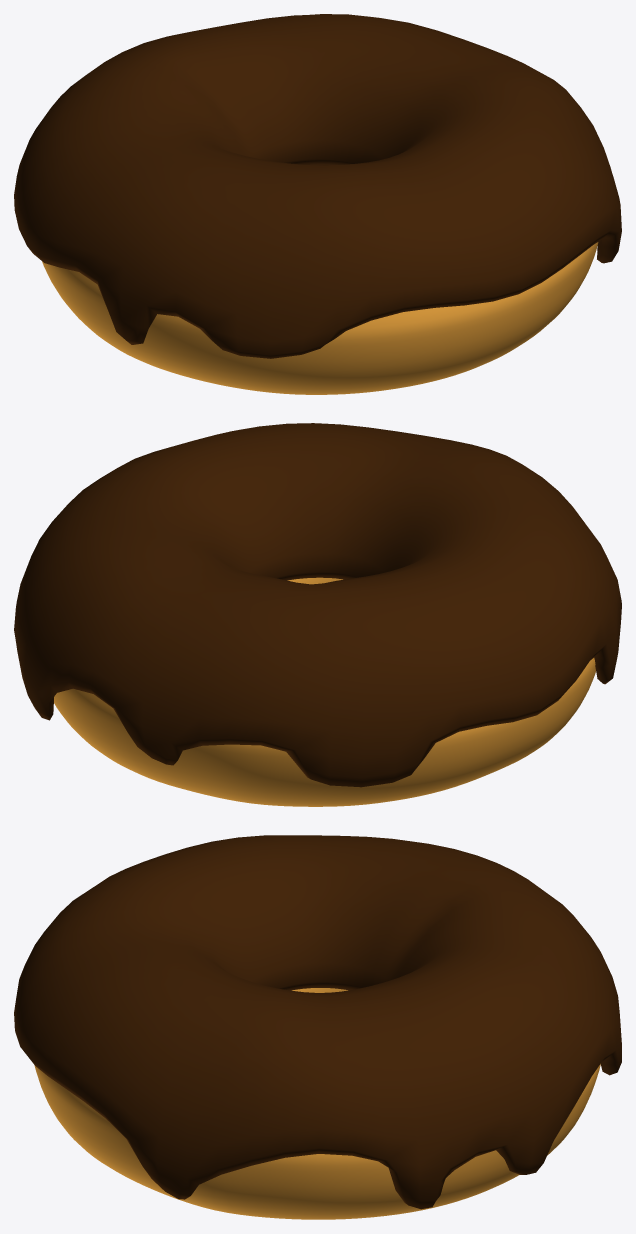
File: sexyassdoughnut2.0.fbx
3 views of the same model, one above another, from view 1: azimuth 30°, elevation 25°; view 2: azimuth 150°, elevation 25°; view 3: azimuth 270°, elevation 25° (orthographic).
Visible parts, largest first — view 1: ICING, DOUGHNUT; view 2: ICING, DOUGHNUT; view 3: ICING, DOUGHNUT.
Boxes of the visible parts, box(x1,y1,x2,y2) form: ICING: box(14, 14, 621, 358); DOUGHNUT: box(42, 242, 598, 394); ICING: box(14, 423, 621, 787); DOUGHNUT: box(54, 577, 595, 806); ICING: box(14, 835, 621, 1209); DOUGHNUT: box(34, 988, 600, 1219).
Bounding box in the file's own units: 15.93 × 6.16 × 15.84.
